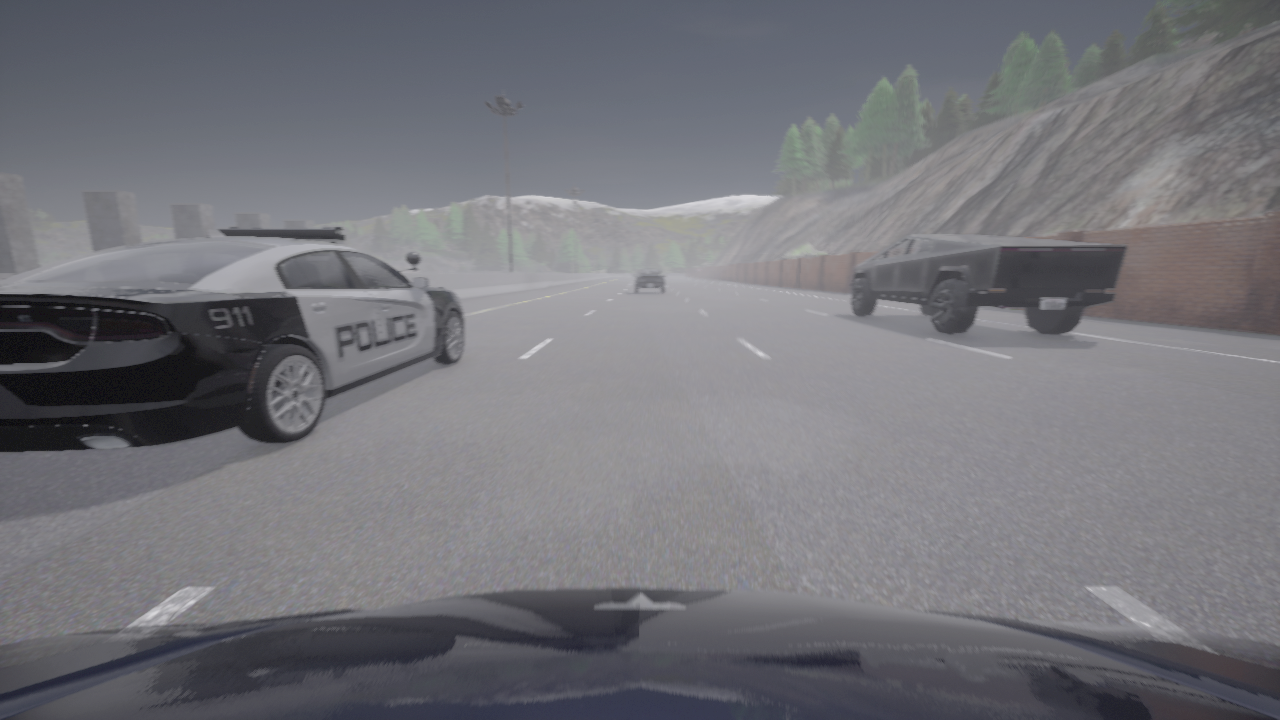cyclist: (0, 588, 1279, 719), (0, 226, 463, 452), (848, 235, 1126, 335), (632, 268, 667, 293)
